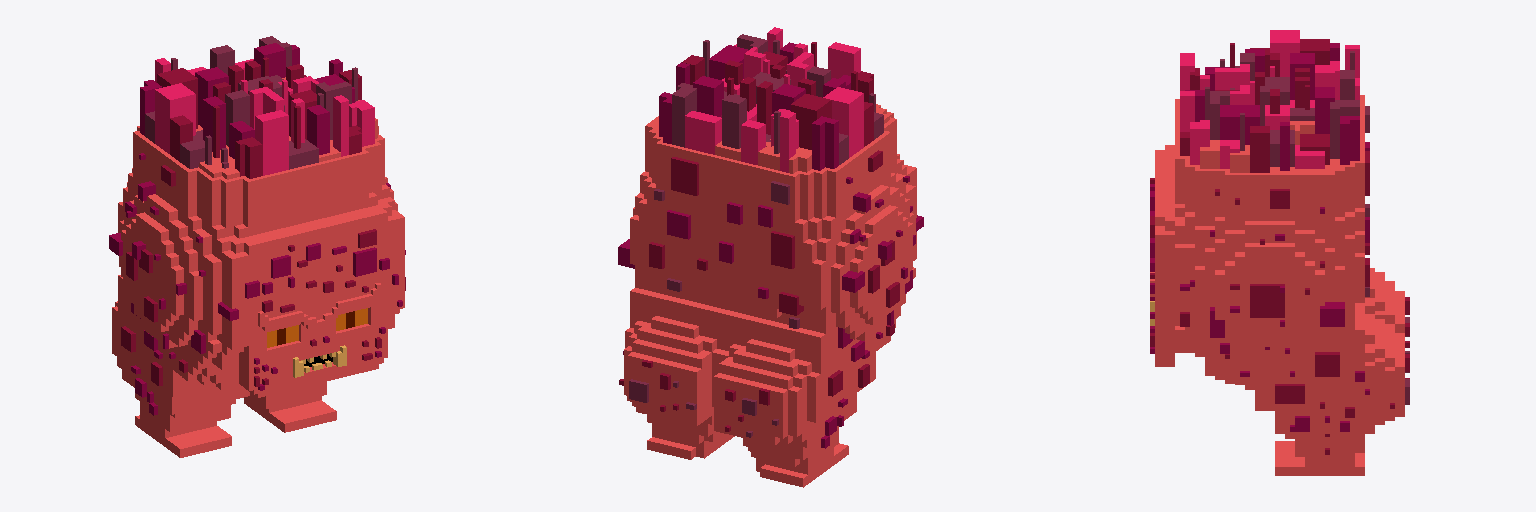
The picture shows the model from 3 angles: view 1: azimuth 30°, elevation 25°; view 2: azimuth 150°, elevation 25°; view 3: azimuth 270°, elevation 25°; orthographic projection.
Visible parts, largest first — view 1: object 1; view 2: object 1; view 3: object 1.
Part boxes in pixels (x1,y1,x2,y2): object 1: (109, 36, 405, 457); object 1: (618, 27, 923, 487); object 1: (1150, 30, 1409, 475).
Bounding box in the file's own units: 5.6 × 8 × 5.2.
1 materials, 1 textured.